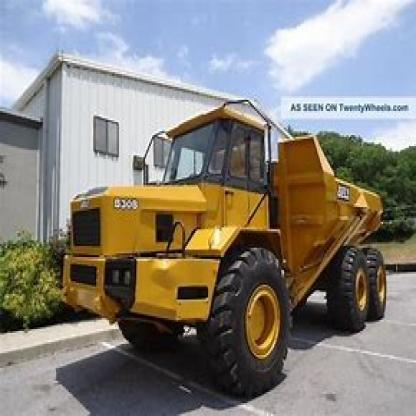dump_truck: (63, 105, 395, 394)
